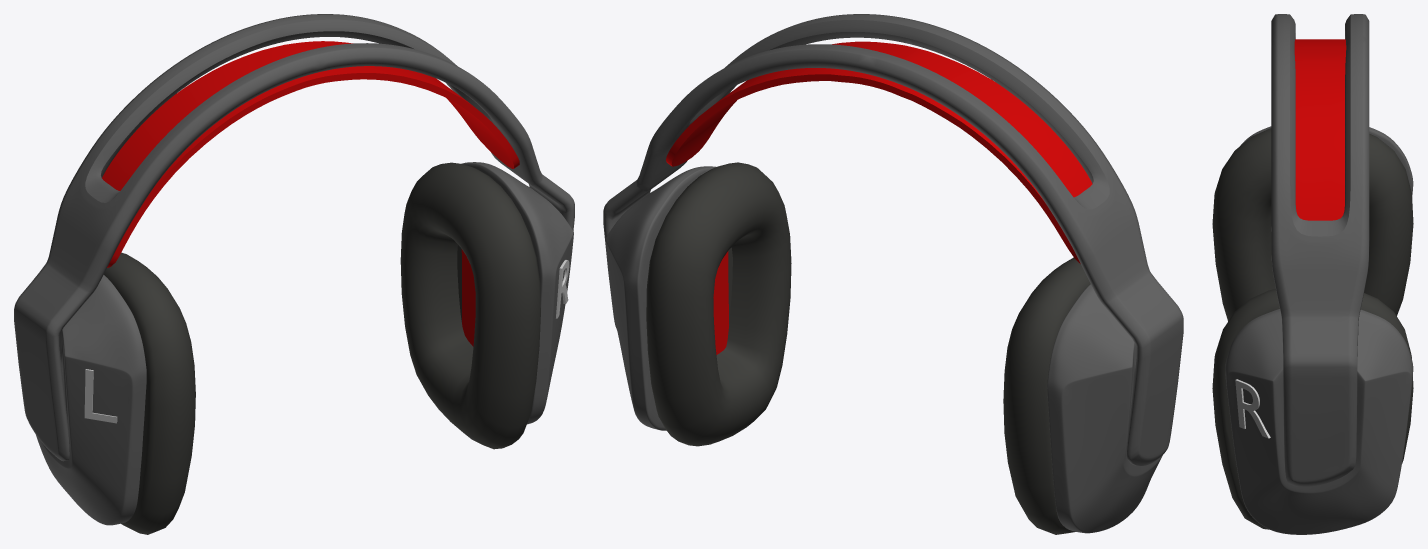
Rendered from SM_Headphone_01_1129_1.obj.
The picture shows the model from 3 angles, left to right: view 1: azimuth 30°, elevation 25°; view 2: azimuth 150°, elevation 25°; view 3: azimuth 270°, elevation 25°; orthographic projection. The views are drawn at different scales.
Parts seen in each view (by area): view 1: SM_Headset_01_Mat; view 2: SM_Headset_01_Mat; view 3: SM_Headset_01_Mat.
Boxes of the visible parts, x1,y1,x2,y2 form: SM_Headset_01_Mat: (14,14,574,534); SM_Headset_01_Mat: (603,14,1183,534); SM_Headset_01_Mat: (1212,14,1413,534).
Bounding box in the file's own units: 0.2577 × 0.2025 × 0.0899.
